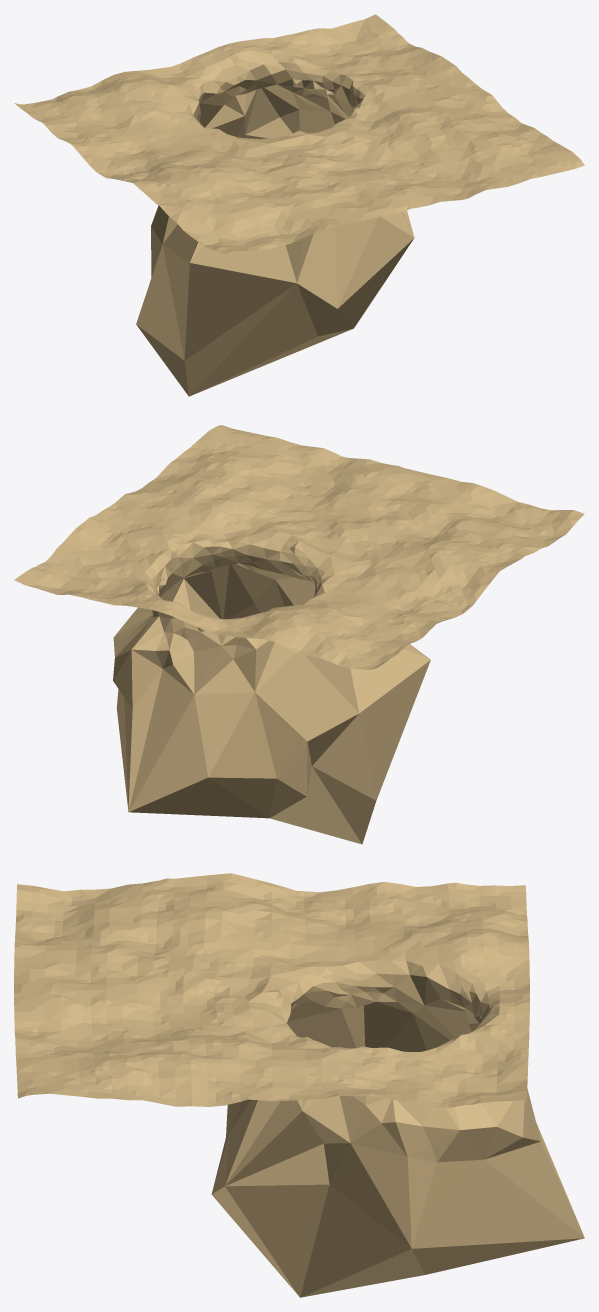
The model's file is teren_crater.dae.
The picture shows the model from 3 angles, top to bottom: view 1: azimuth 30°, elevation 25°; view 2: azimuth 150°, elevation 25°; view 3: azimuth 270°, elevation 25°; orthographic projection. The views are drawn at different scales.
Visible parts, largest first — view 1: Teren_crater; view 2: Teren_crater; view 3: Teren_crater.
Boxes of the visible parts, x1,y1,x2,y2 form: Teren_crater: (14,14,584,396); Teren_crater: (14,425,584,844); Teren_crater: (14,873,584,1297).
Bounding box in the file's own units: 26.85 × 29.7 × 18.73.
